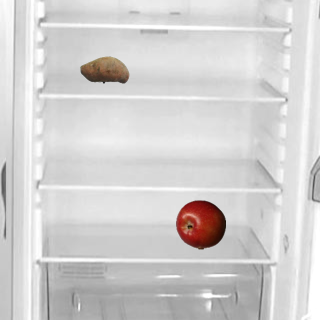Apple Braeburn: (175, 199, 225, 249)
Potato Sweet: (79, 44, 129, 94)
